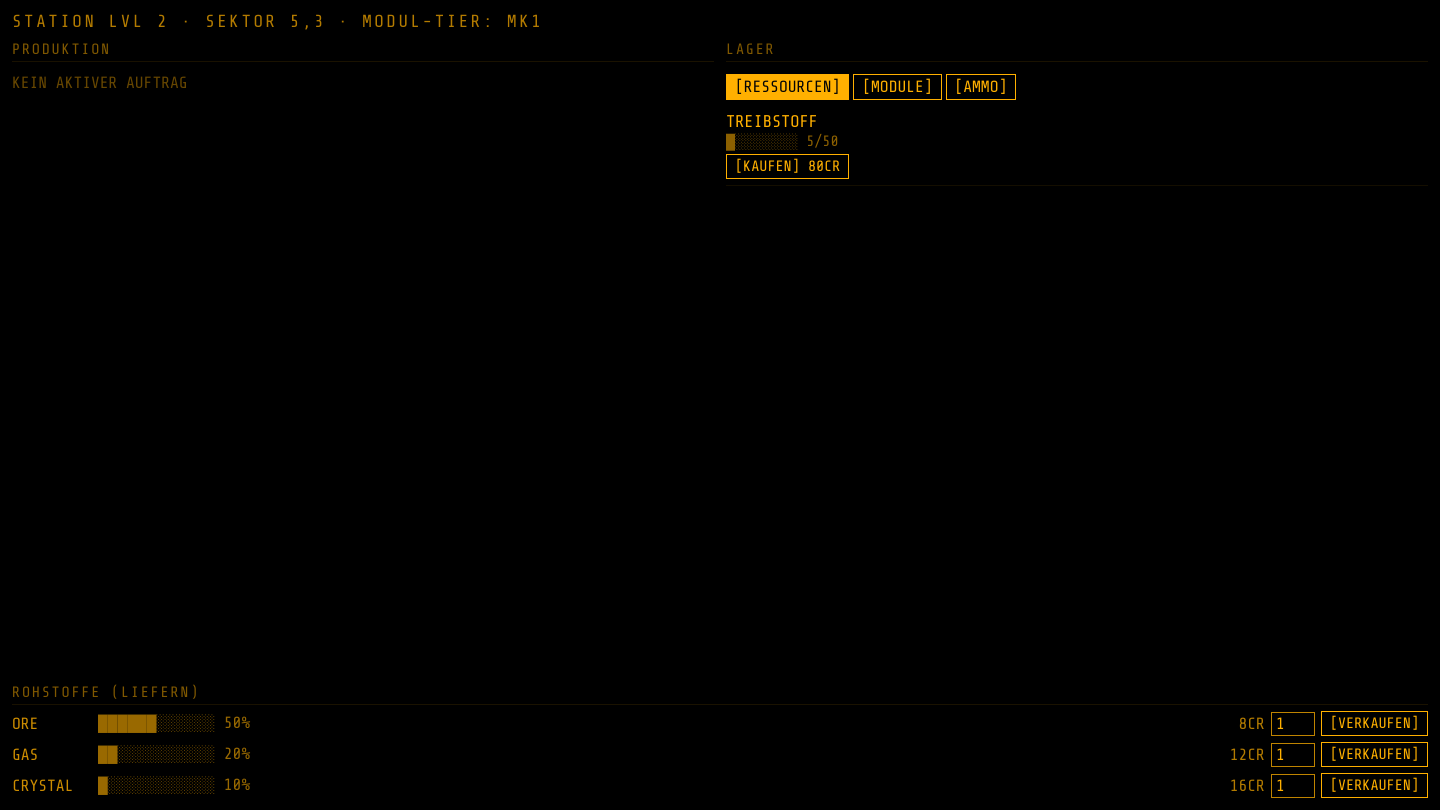
Test case: FabrikScreen › when state is loaded › tab switching: MODULE tab shows module items
The width and height of the screenshot is (1440, 810).
Click the button "[MODULE]": [897, 87] box [853,74,942,100]
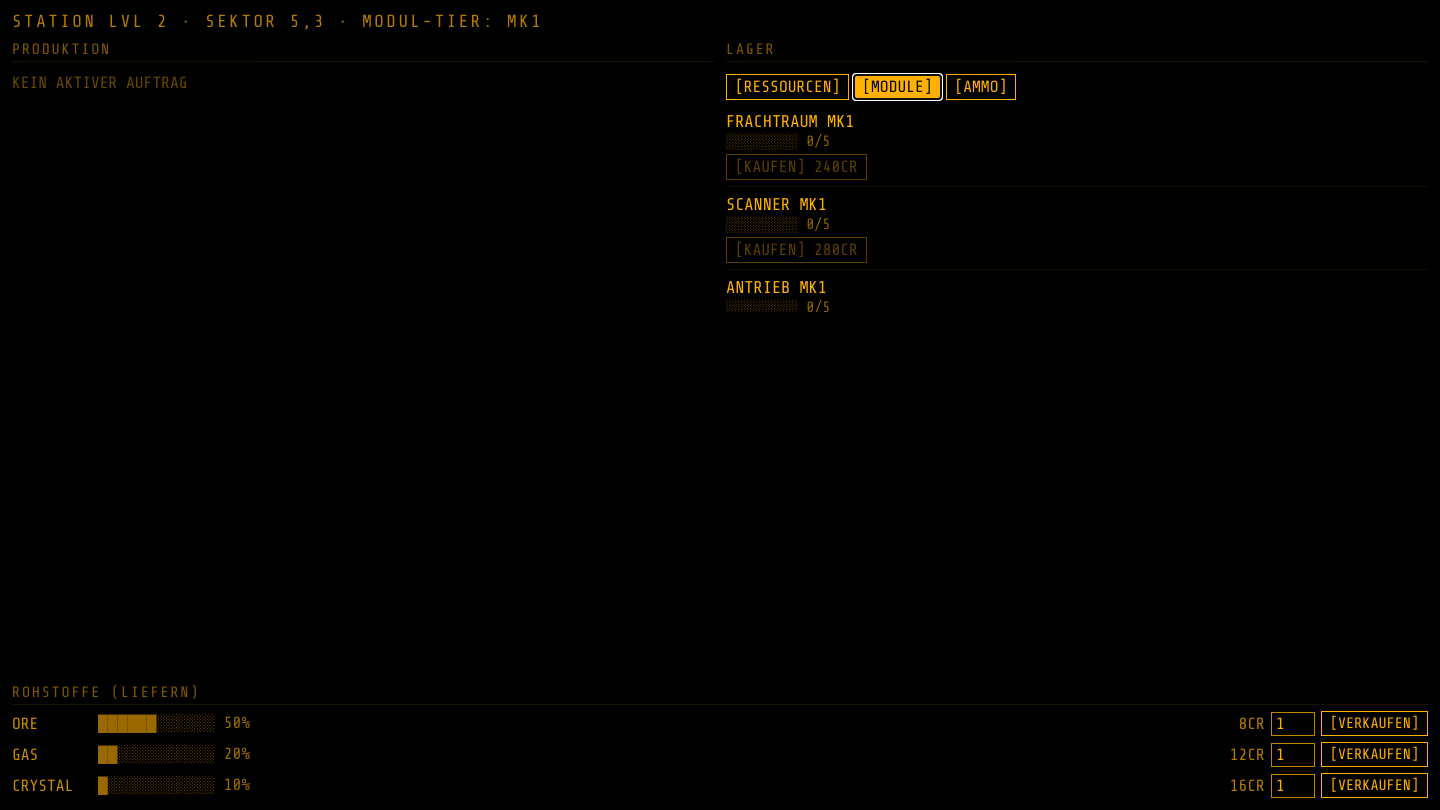
Result: the text "FRACHTRAUM MK1" is shown at [726,112,854,131]
Result: the text "SCANNER MK1" is shown at [726,195,827,214]
